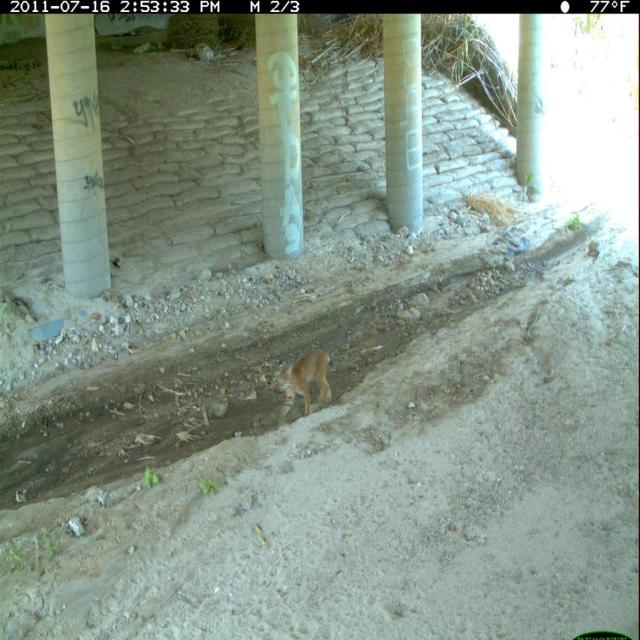bobcat: (275, 344, 337, 427)
